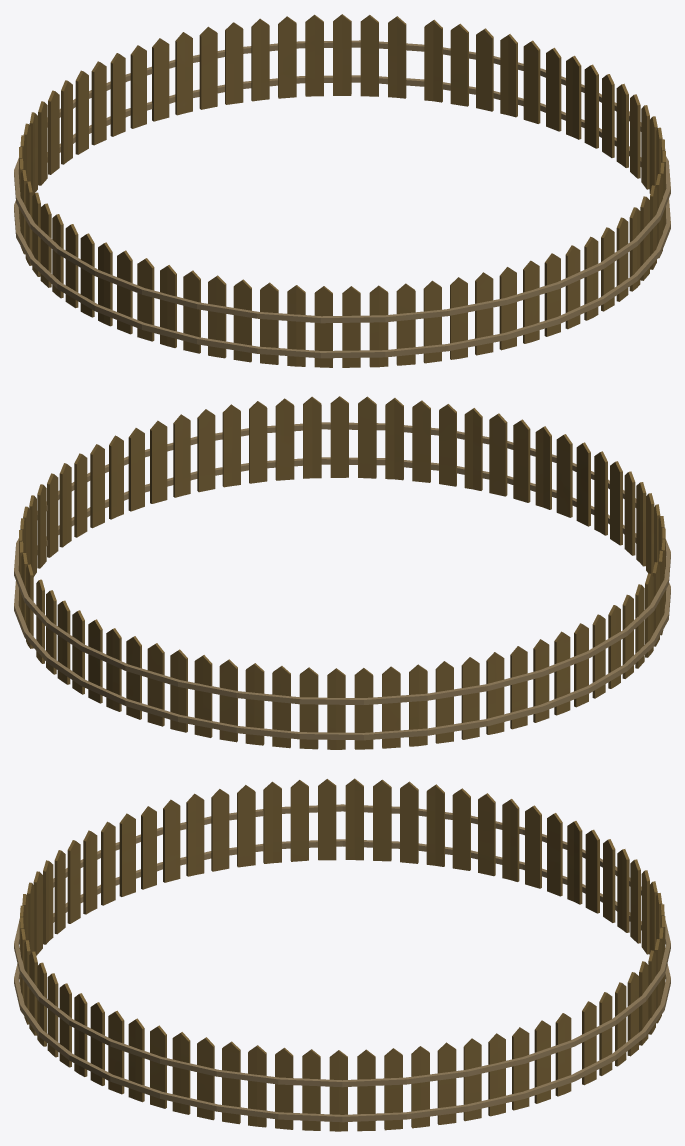
Rendered from sololacerca.fbx.
3 views of the same model, one above another, from view 1: azimuth 30°, elevation 25°; view 2: azimuth 150°, elevation 25°; view 3: azimuth 270°, elevation 25° (orthographic).
Visible parts, largest first — view 1: Cylinder; view 2: Cylinder; view 3: Cylinder.
Part boxes in pixels (x1=…): Cylinder: x1=14, y1=14, x2=670, y2=367; Cylinder: x1=14, y1=396, x2=670, y2=749; Cylinder: x1=14, y1=778, x2=670, y2=1131.
Size of the model in its own units: 1079 by 146 by 1079.
Materials: 1 (1 with a texture image).
